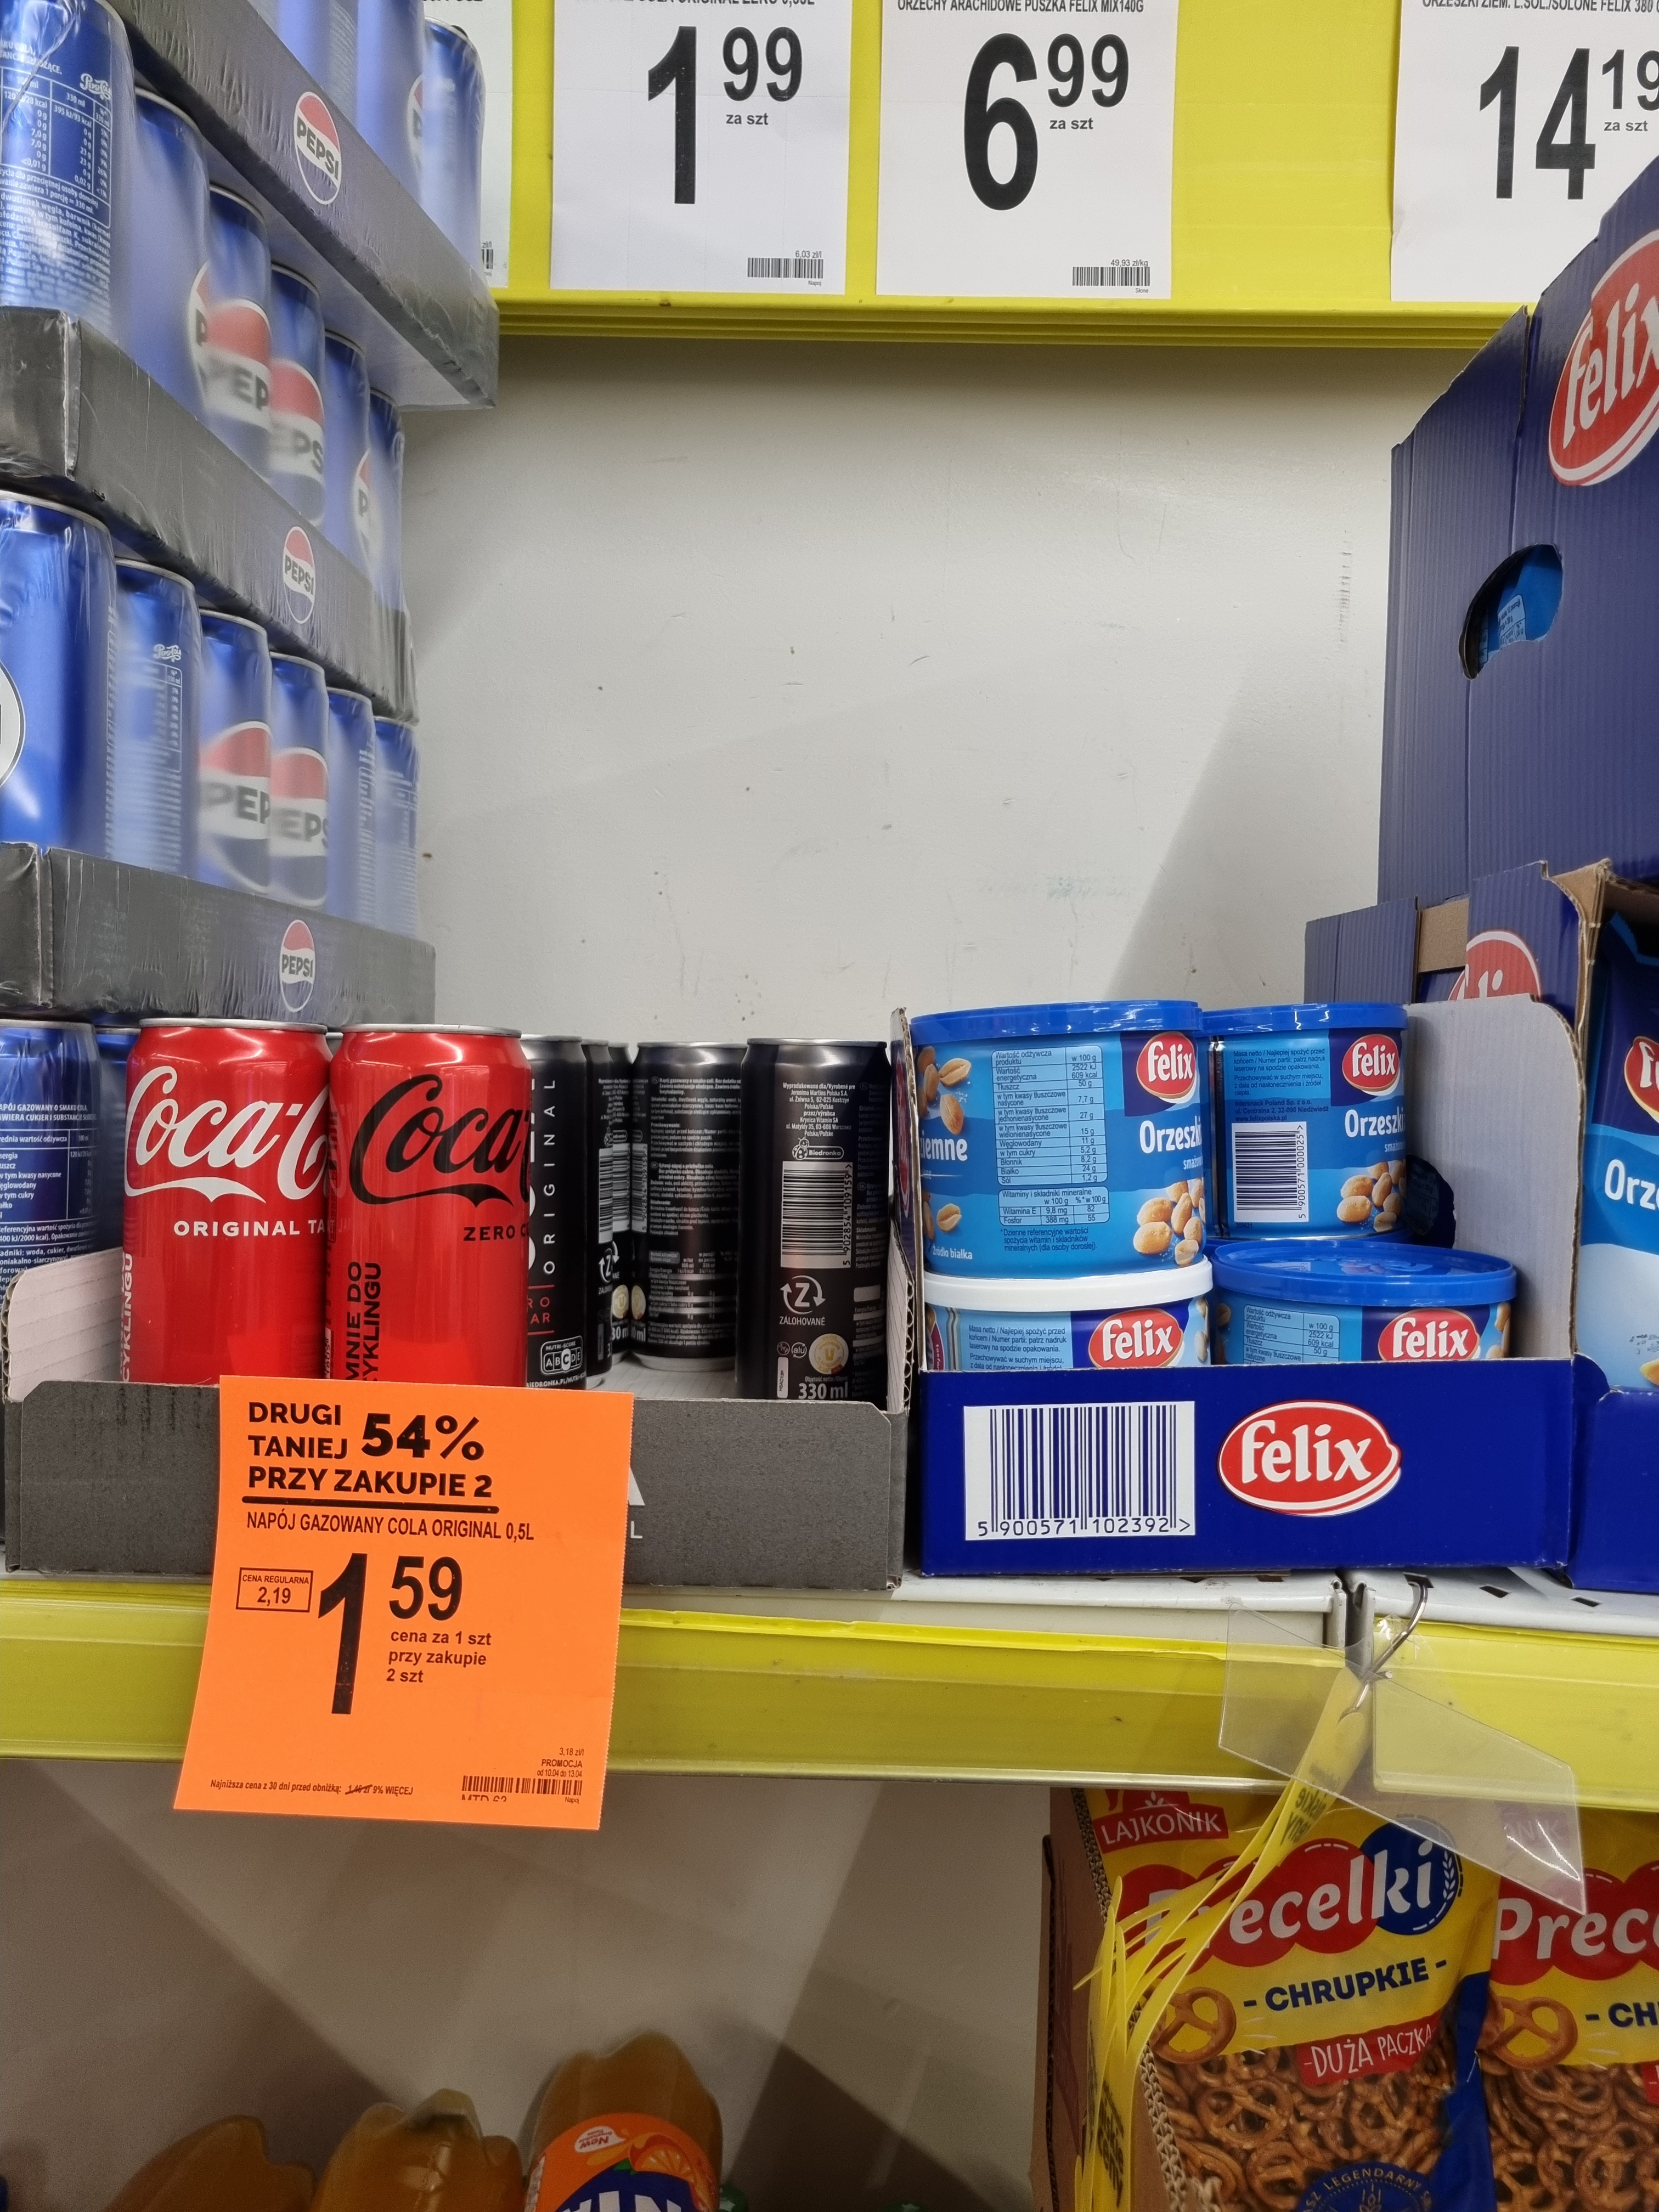Coca Cola: (321, 1021, 537, 1435), (120, 1012, 331, 1425)
